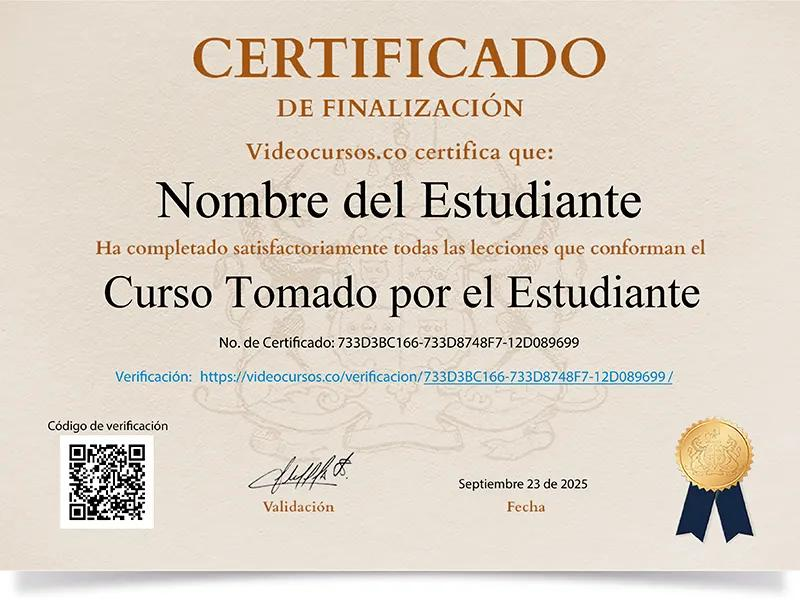firma: (231, 437, 371, 506)
nombre: (144, 163, 683, 239)
titulo: (93, 266, 719, 324)
